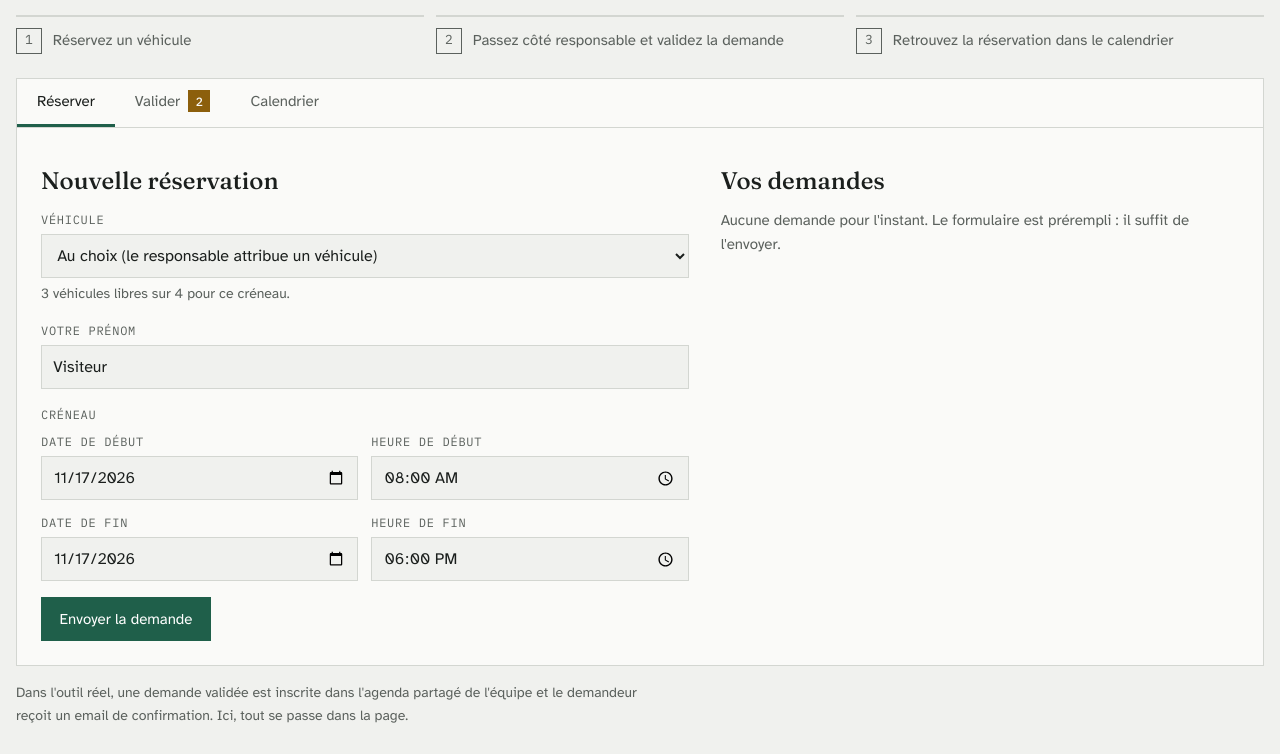
Test: démo de réservation › se remet à zéro
(page scrolled)
Click the button "Envoyer la demande": point(126, 619) [41,597,211,641]
(page scrolled)
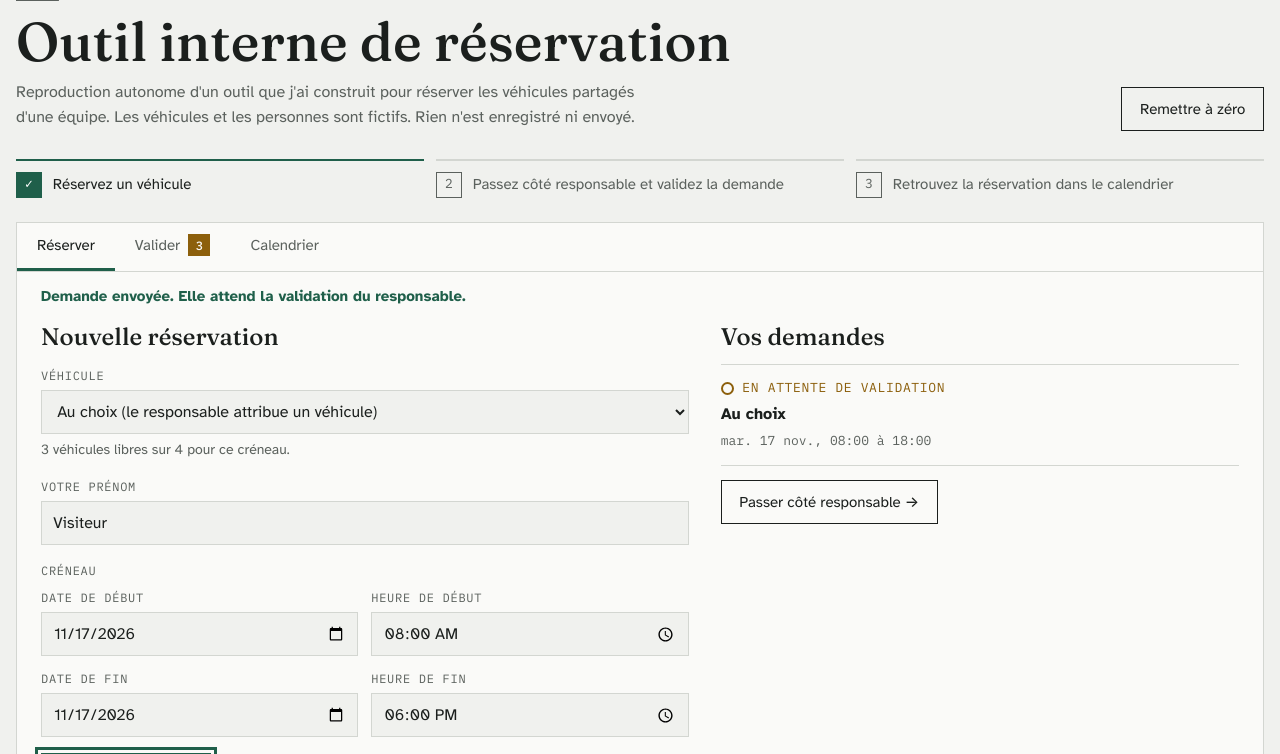
Click the button "Remettre à zéro": point(1193, 109) [1121,87,1264,131]
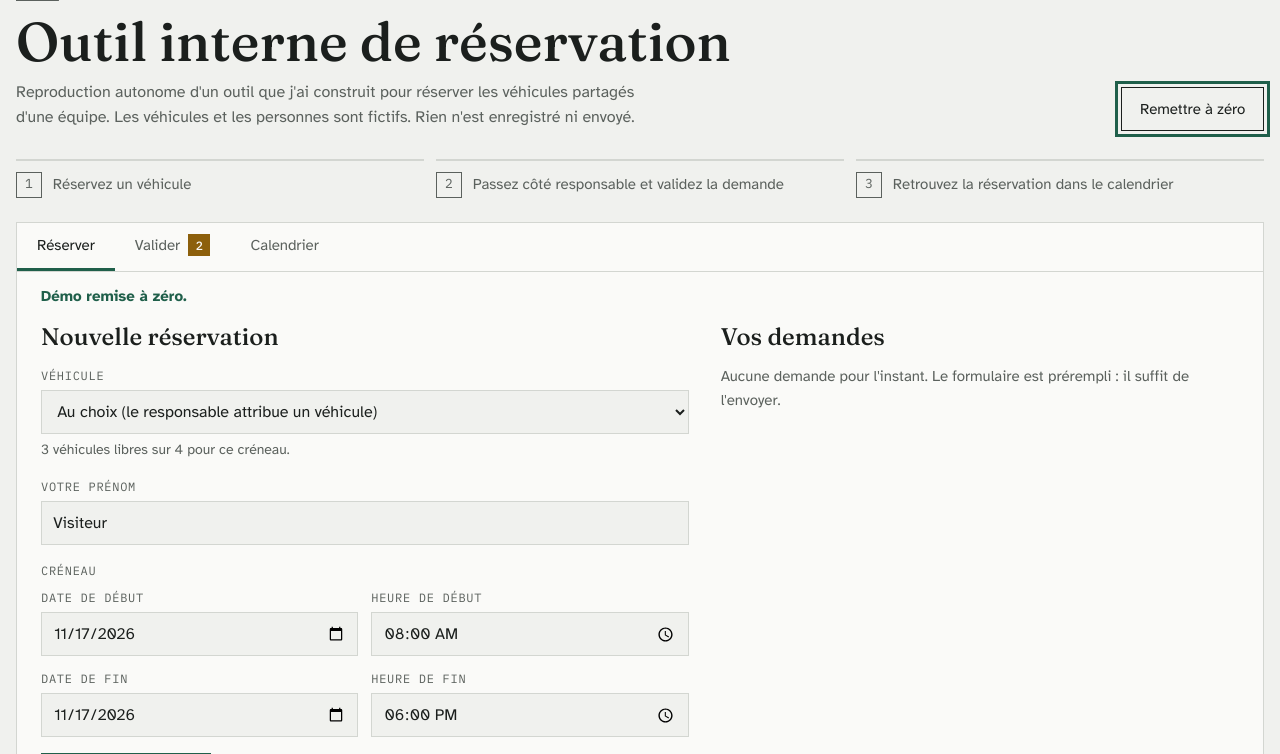
Expected: the text "Aucune demande pour l'instant" is shown, [721,367,1189,409]
Expected: the tab "Valider 2" is shown, [115,223,230,271]
